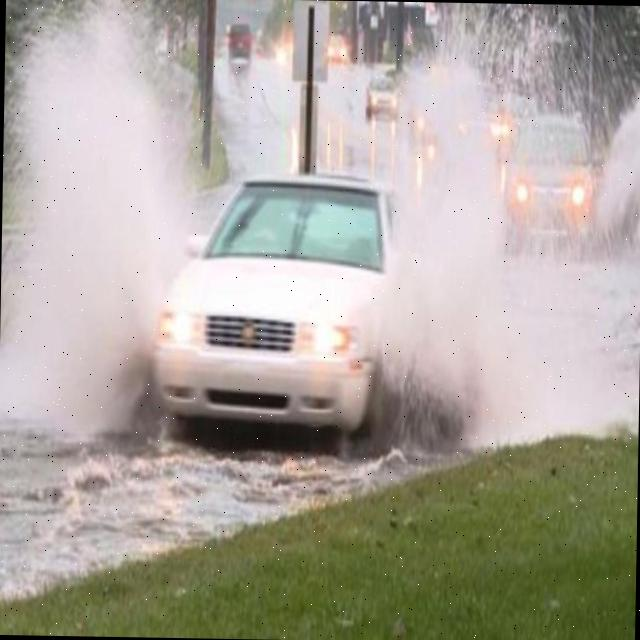car: (141, 173, 397, 450), (504, 118, 599, 255), (366, 72, 400, 122), (225, 21, 255, 62), (327, 32, 349, 62)
